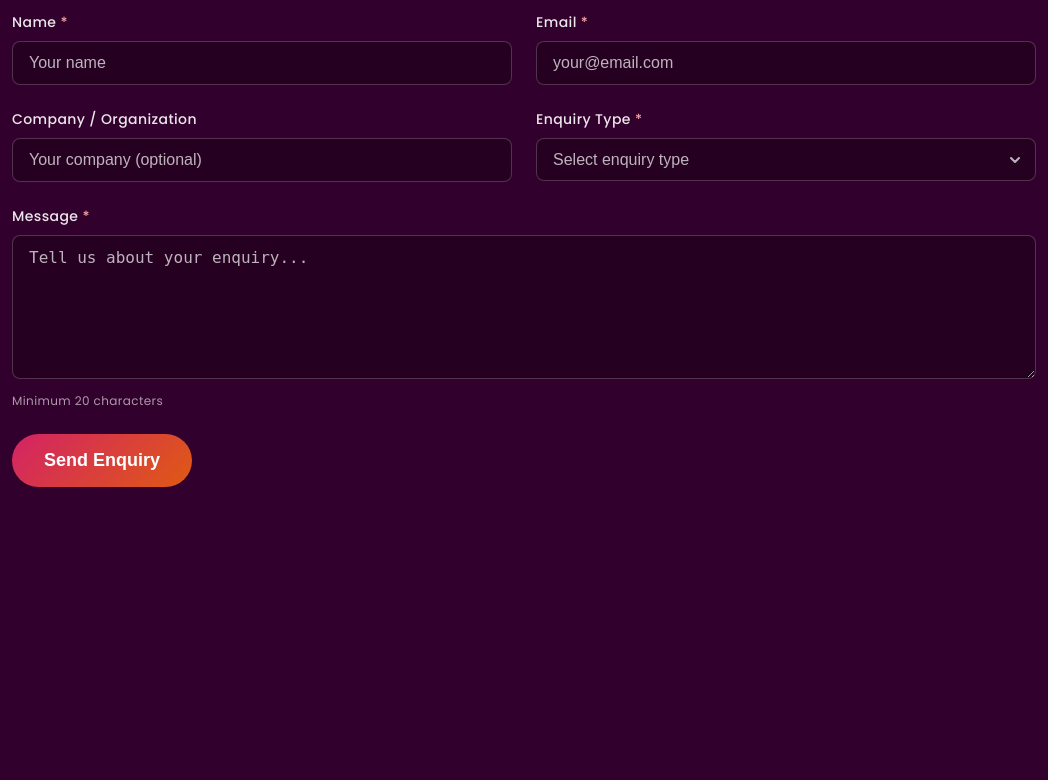
it: EnquiryForm › shows validation error for empty name
Click the button "Send Enquiry" at (102, 460), box [12, 434, 192, 487]
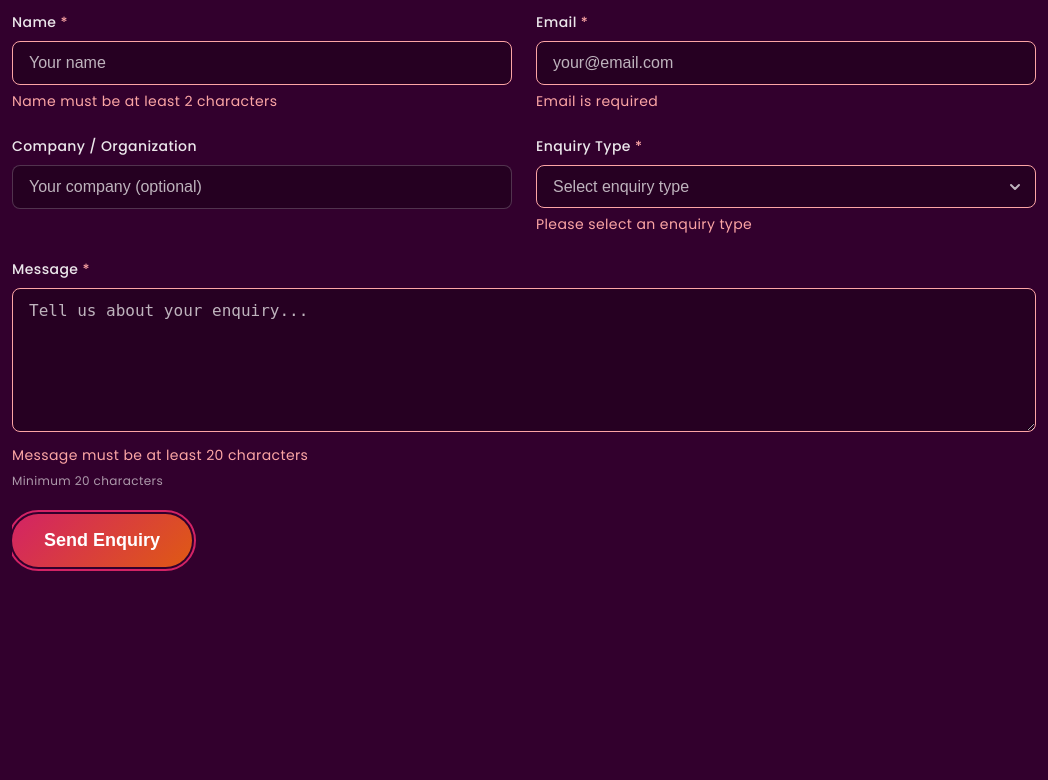
Result: the text "Name must be at least 2 characters" is shown at [12, 91, 277, 111]
